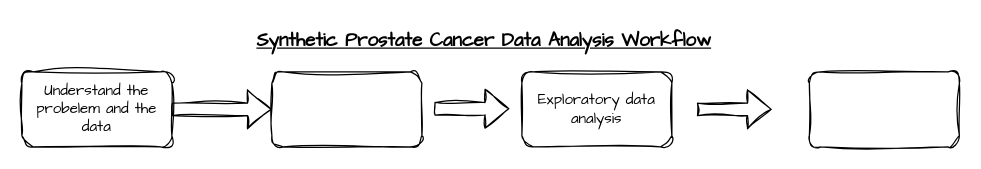
This 981x169 diagram has some shape labels left out. The shapes that lost their labels are listed below. From the top down, each one's centre as x and y in pixels, then its label:
(346,109): load the data and initial inspections
(883,109): Interpretation and communication
